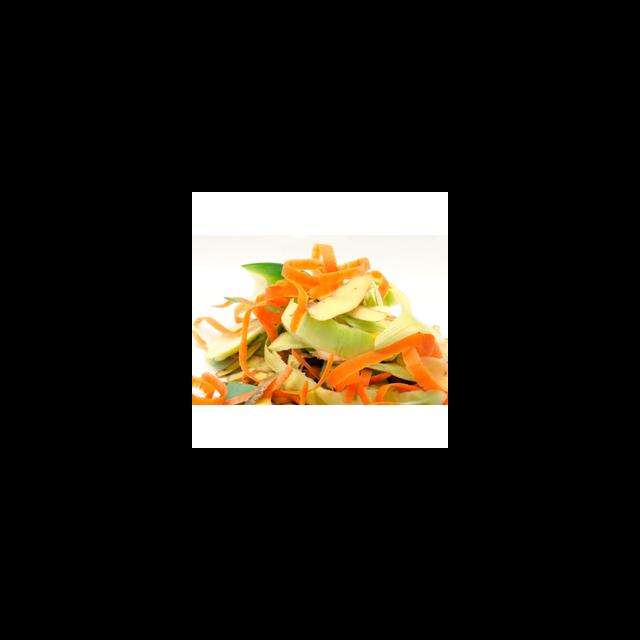food_waste: (192, 241, 446, 403)
